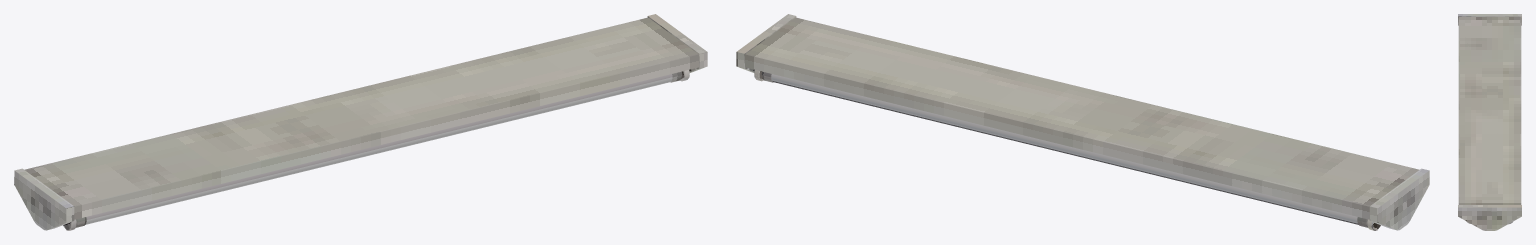
The model's file is ceiling-ab0e0502.glb.
3 views of the same model, side by side, from view 1: azimuth 30°, elevation 25°; view 2: azimuth 150°, elevation 25°; view 3: azimuth 270°, elevation 25° (orthographic). The views are drawn at different scales.
Parts seen in each view (by area): view 1: Symmetry_1__0; view 2: Symmetry_1__0; view 3: Symmetry_1__0.
Part boxes in pixels (box(x1,y1,x2,y2)): Symmetry_1__0: box(14, 14, 707, 230); Symmetry_1__0: box(736, 14, 1429, 230); Symmetry_1__0: box(1458, 14, 1521, 230).
Bounding box in the file's own units: 1.5 × 0.0848 × 0.2095.
Materials: 1 (1 with a texture image).
